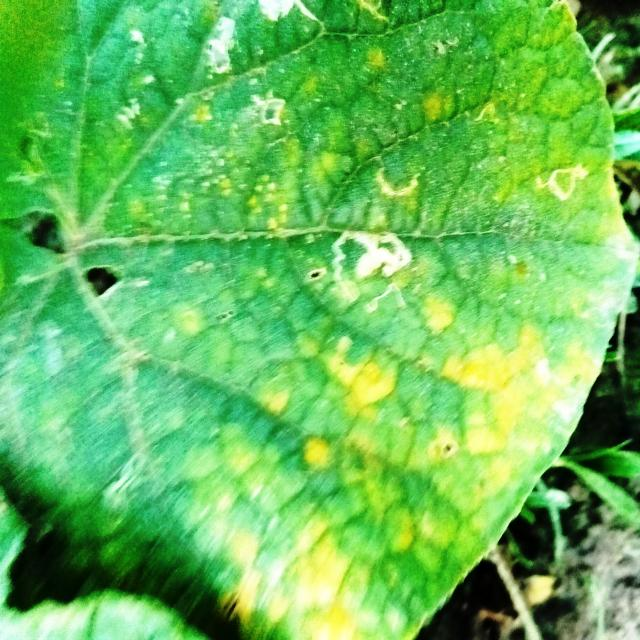Downy-Mildew: (184, 19, 632, 637)
